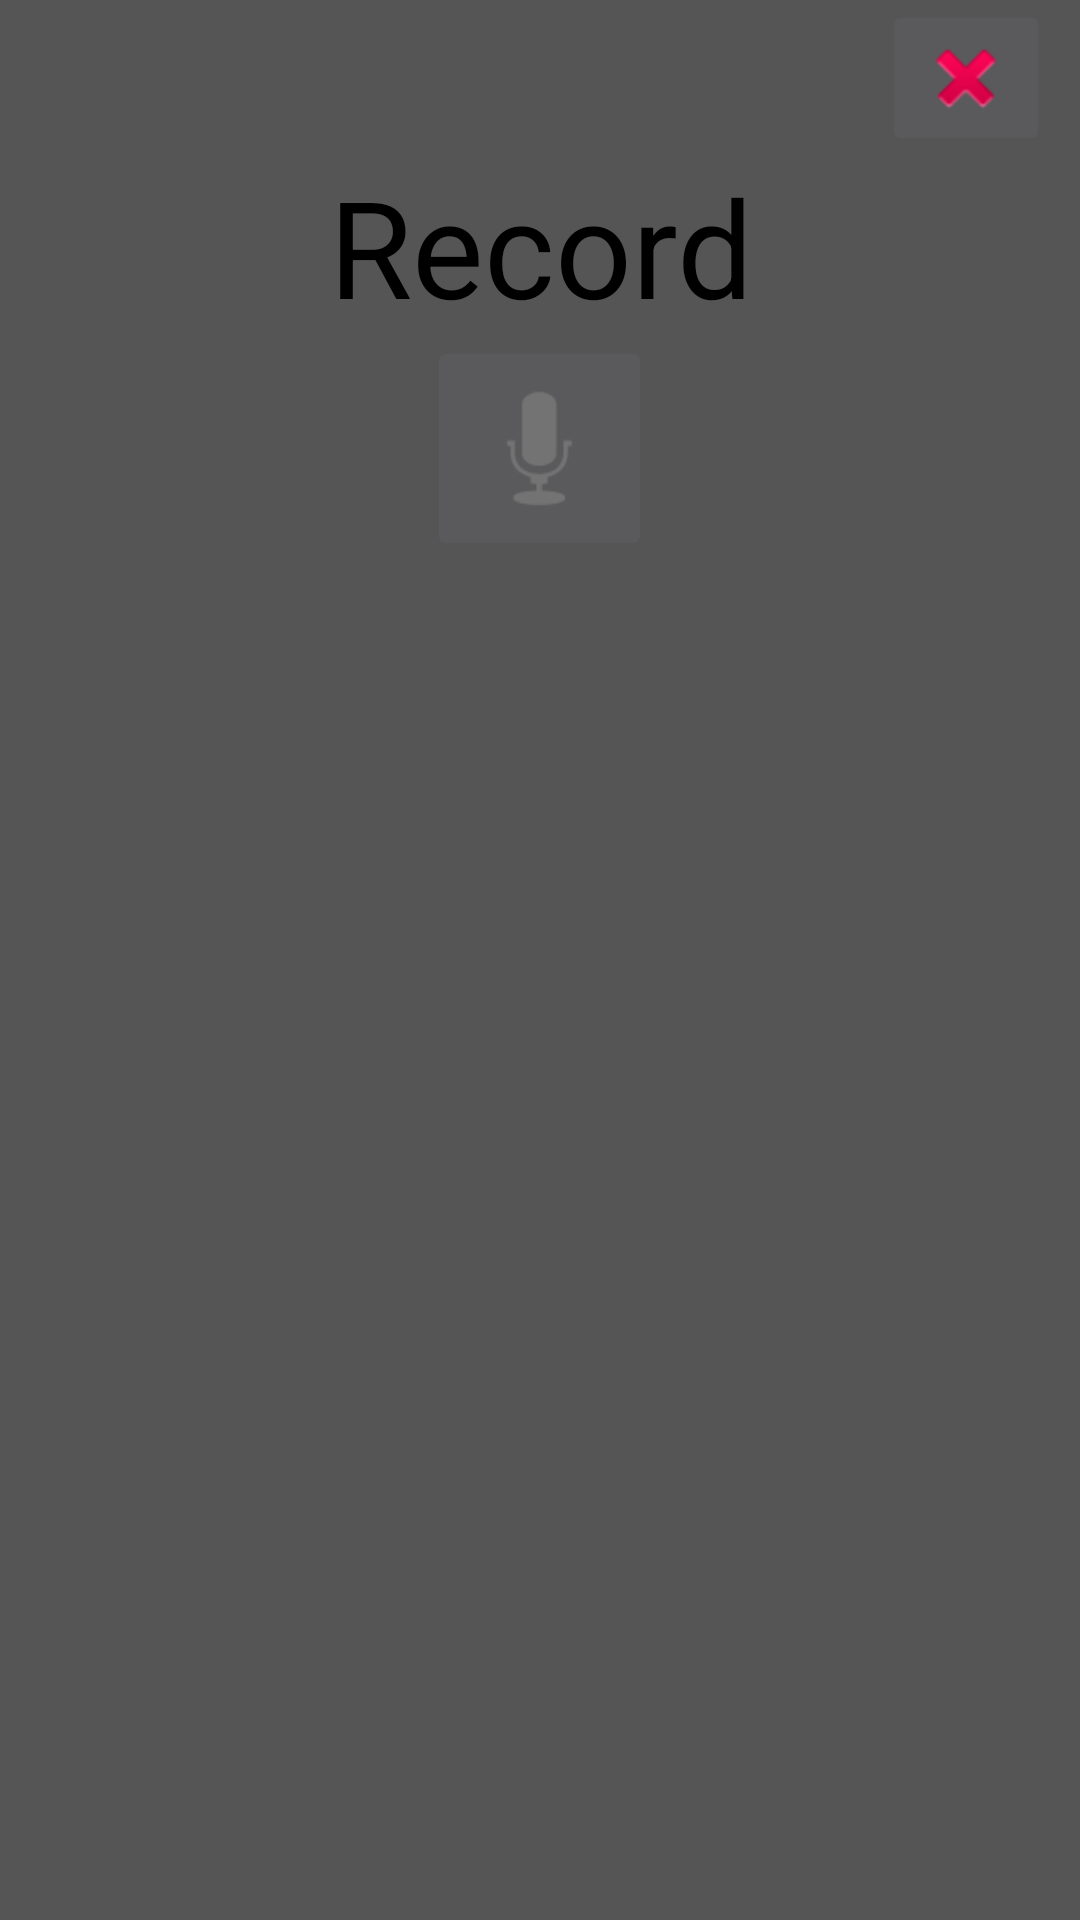

Screen size 1080x1920. Icon name, then its box in pixels as (x1, y1, x2, y2):
delete: (936, 49, 996, 108)
speak now: (508, 393, 571, 505)
